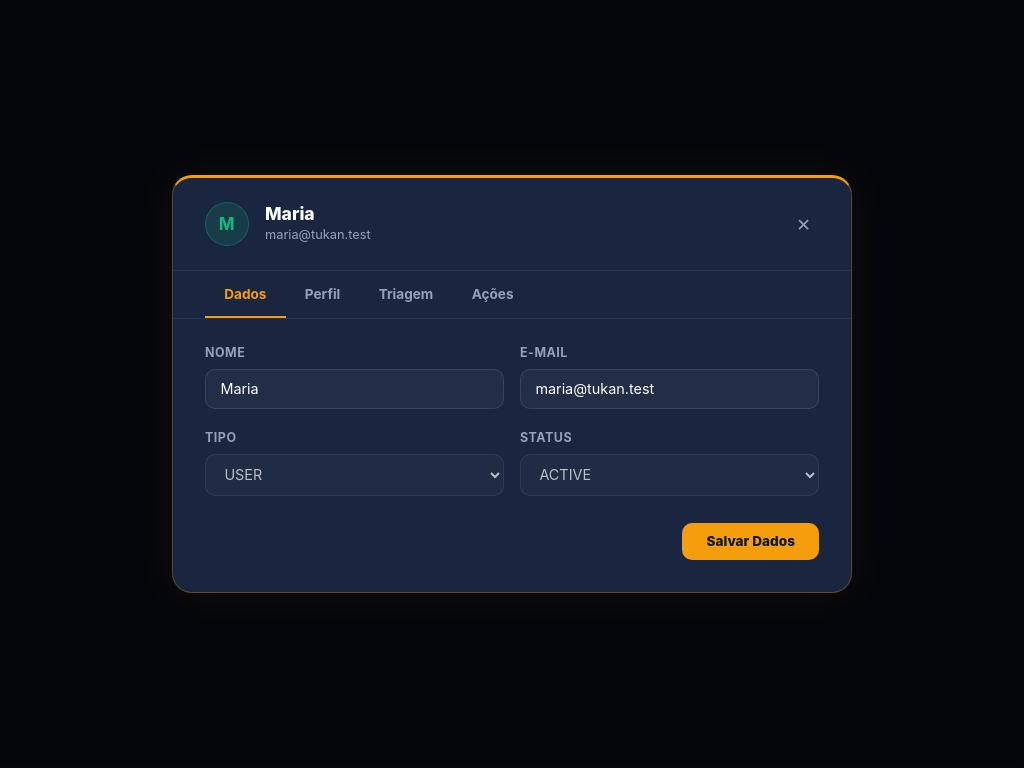
AdminUserModal — isSelf guard › disables Revogar Sessões and Deletar Usuário buttons when isSelf=true
This screenshot has width=1024, height=768.
Click the button with class "tab-btn" showing "Ações".
click(493, 295)  # box [452,271,533,318]
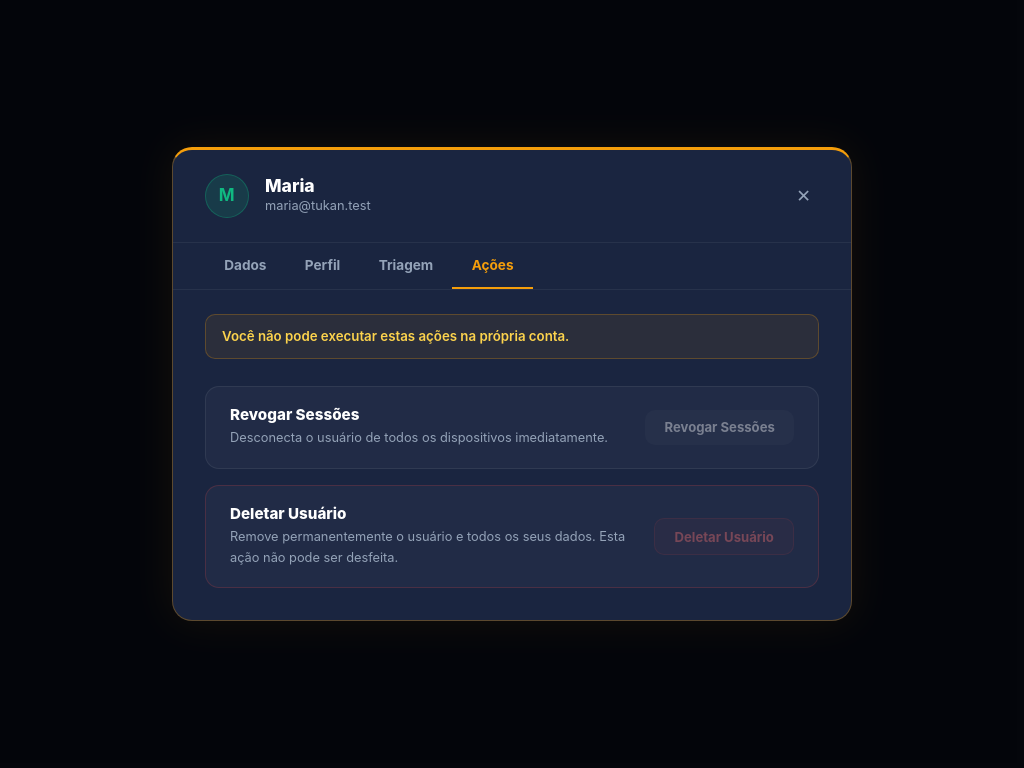
Now the button with class "btn-acao" showing "Revogar Sessões" is disabled, box [645,410,794,445]
Now the button with class "btn-acao" showing "Deletar Usuário" is disabled, box [654,518,794,555]
